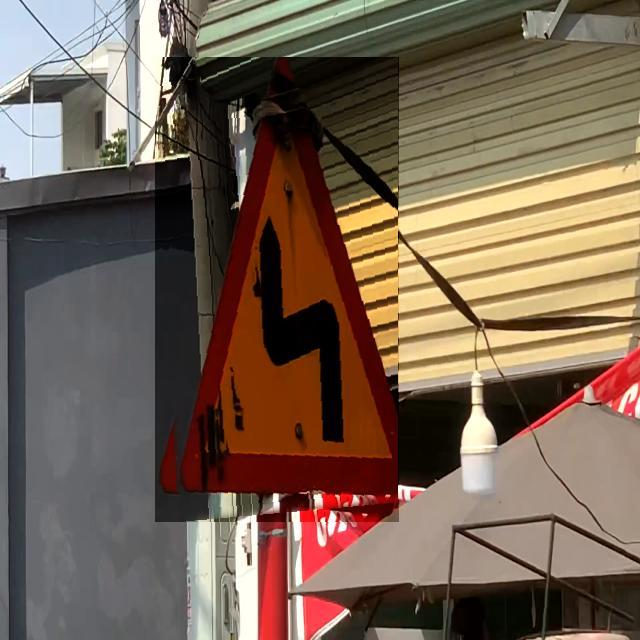W-202b: (156, 57, 400, 522)
